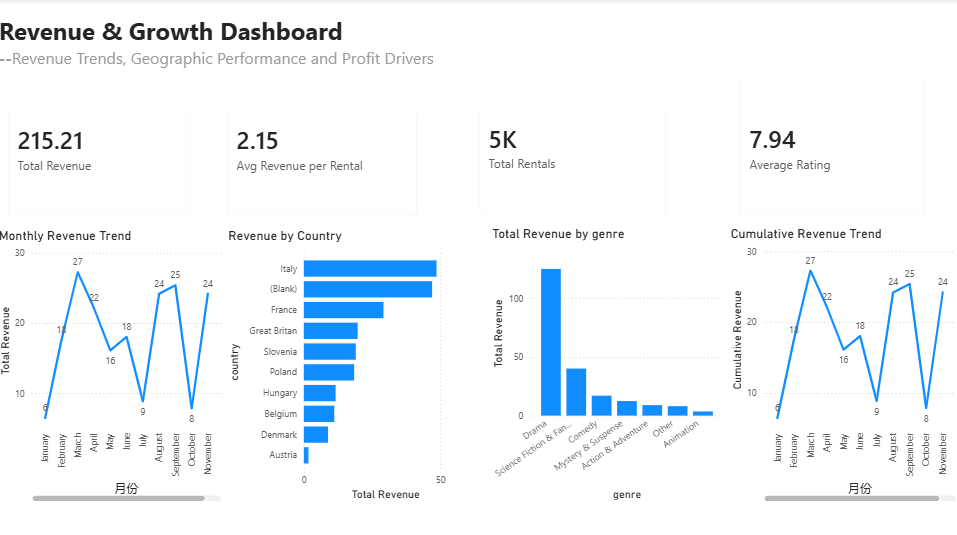

This screenshot's page, from the dashboard's own definition file:
{"tool":"powerbi","page":{"name":"Revenue & Growth Dashboard","canvas":[1280,720],"ordinal":2},"visuals":[{"type":"cardVisual","fields":{"Data":["actors.Total Revenue"]},"box":[0,91.6,276.9,213.1],"z":0},{"type":"cardVisual","fields":{"Data":["actors.Avg Revenue per Rental"]},"box":[290.8,91.6,286.8,213.1],"z":1000},{"type":"cardVisual","fields":{"Data":["CountNonNull(renting.renting_id)"]},"box":[625.4,89.6,282.8,213.1],"z":2000},{"type":"cardVisual","fields":{"Data":["Avg(renting.rating)"]},"box":[972,89.6,278.8,215.1],"z":3000},{"type":"lineChart","title":"Monthly Revenue Trend","fields":{"Category":["renting.date_renting.变体.日期层次结构.月份"],"Y":["actors.Total Revenue"]},"box":[0,304.7,304.7,368.5],"z":4000},{"type":"clusteredBarChart","title":"Revenue by Country","fields":{"Category":["customers.country"],"Y":["actors.Total Revenue"]},"box":[304.7,304.7,334.6,366.5],"z":5000},{"type":"clusteredColumnChart","fields":{"Category":["movies.genre"],"Y":["actors.Total Revenue"]},"box":[655.3,302.7,316.7,368.5],"z":6000},{"type":"lineChart","title":"Cumulative Revenue Trend","fields":{"Category":["renting.date_renting.变体.日期层次结构.月份"],"Y":["actors.Cumulative Revenue"]},"box":[972,302.7,308.7,370.5],"z":7000},{"type":"textbox","box":[0,15.9,908.2,137.4],"z":8000}]}

Visuals, with their boxes in screenshot pixels (x1, y1, x2, y2), scaled from the page's 1280x720 canvas onto the 957x535 screenshot:
cardVisual - actors.Total Revenue: x1=0 y1=68 x2=207 y2=226
cardVisual - actors.Avg Revenue per Rental: x1=217 y1=68 x2=432 y2=226
cardVisual - CountNonNull(renting.renting_id): x1=468 y1=67 x2=679 y2=225
cardVisual - Avg(renting.rating): x1=727 y1=67 x2=935 y2=226
"Monthly Revenue Trend" lineChart: x1=0 y1=226 x2=228 y2=500
"Revenue by Country" clusteredBarChart: x1=228 y1=226 x2=478 y2=499
clusteredColumnChart - movies.genre x actors.Total Revenue: x1=490 y1=225 x2=727 y2=499
"Cumulative Revenue Trend" lineChart: x1=727 y1=225 x2=956 y2=500
textbox: x1=0 y1=12 x2=679 y2=114
